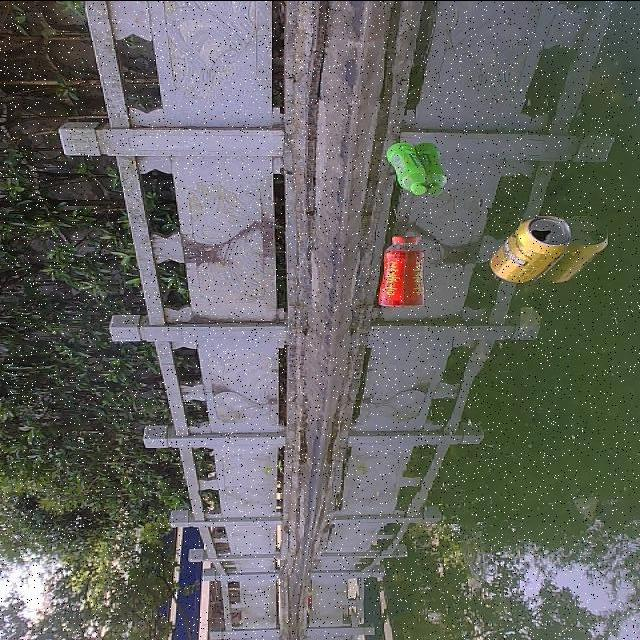Bottle: (372, 230, 422, 312), (378, 138, 432, 198)
Can: (486, 206, 574, 292)
